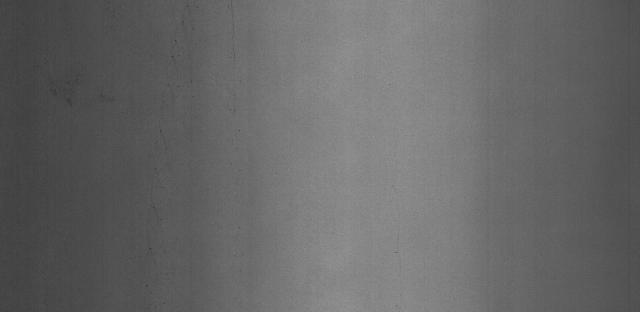inclusion: (137, 145, 175, 298), (158, 6, 203, 135), (39, 60, 124, 124)
